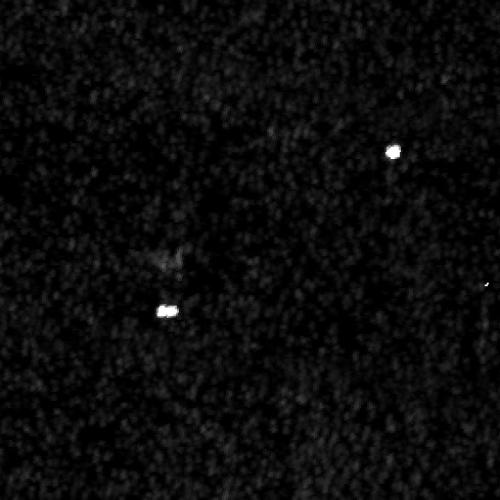ship: (156, 303, 180, 320), (385, 142, 401, 162)
